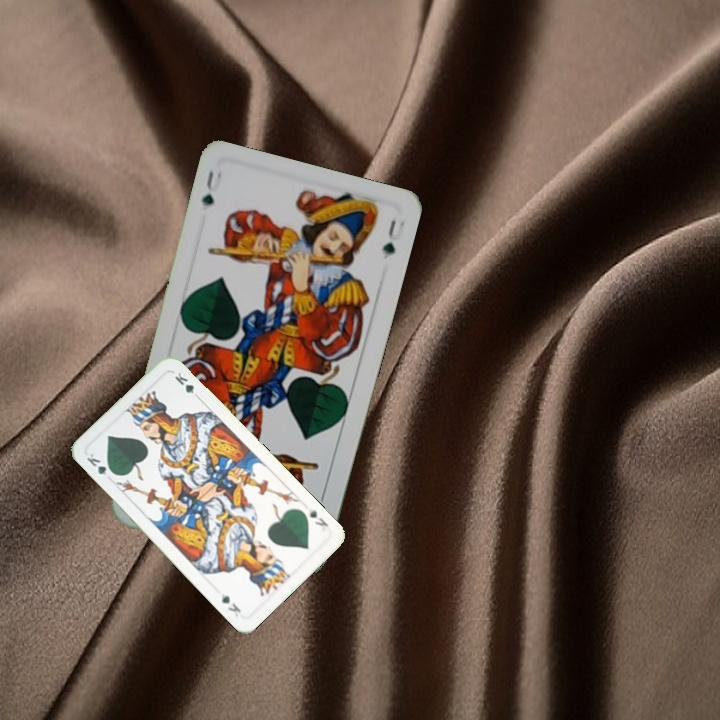GK: (82, 449, 118, 479), (303, 504, 331, 533)
GU: (197, 167, 222, 209)
